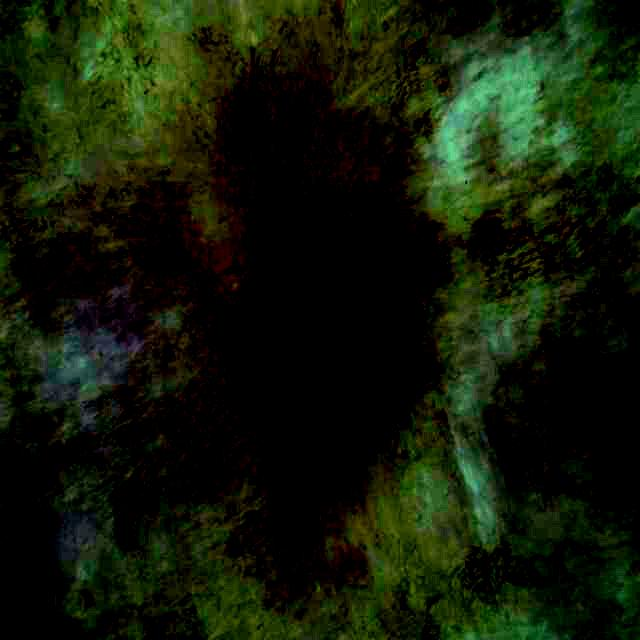AKIEC: (114, 4, 480, 636)
